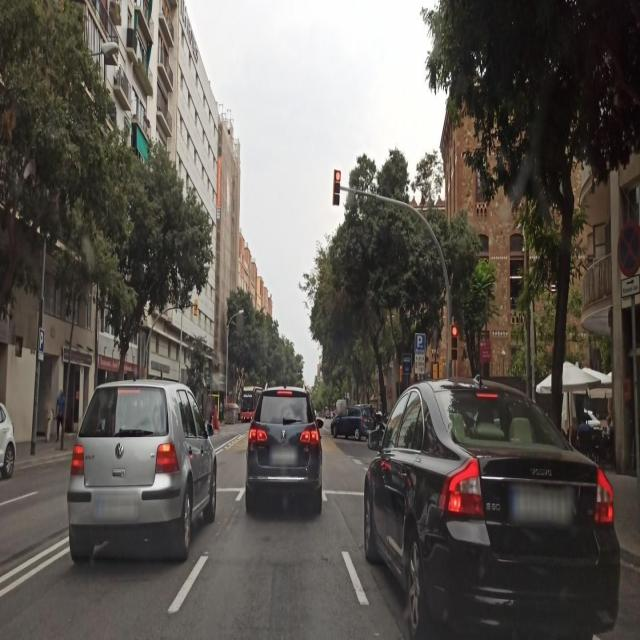car: (363, 379, 622, 640), (66, 378, 218, 564), (245, 383, 323, 516), (330, 404, 374, 441), (0, 397, 16, 483)
